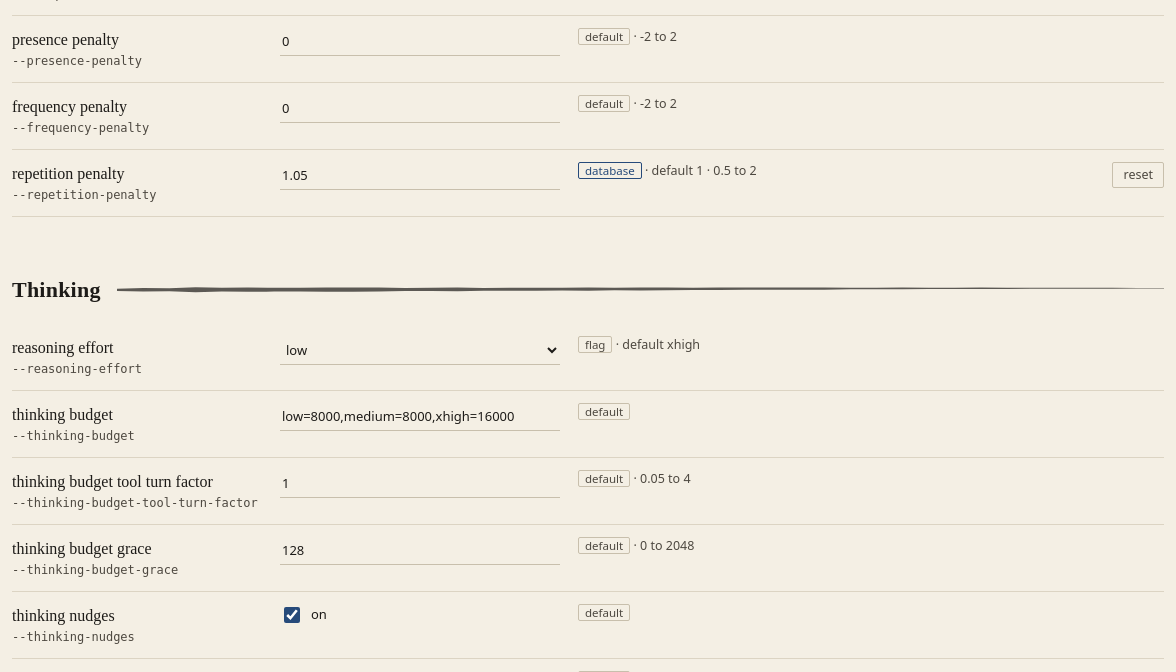
SettingsView › a refused select snaps back to the stored value
The image size is (1176, 672).
(page scrolled)
Select "medium" in the dropdown named "reasoning effort": (420, 350) [280,336,560,364]
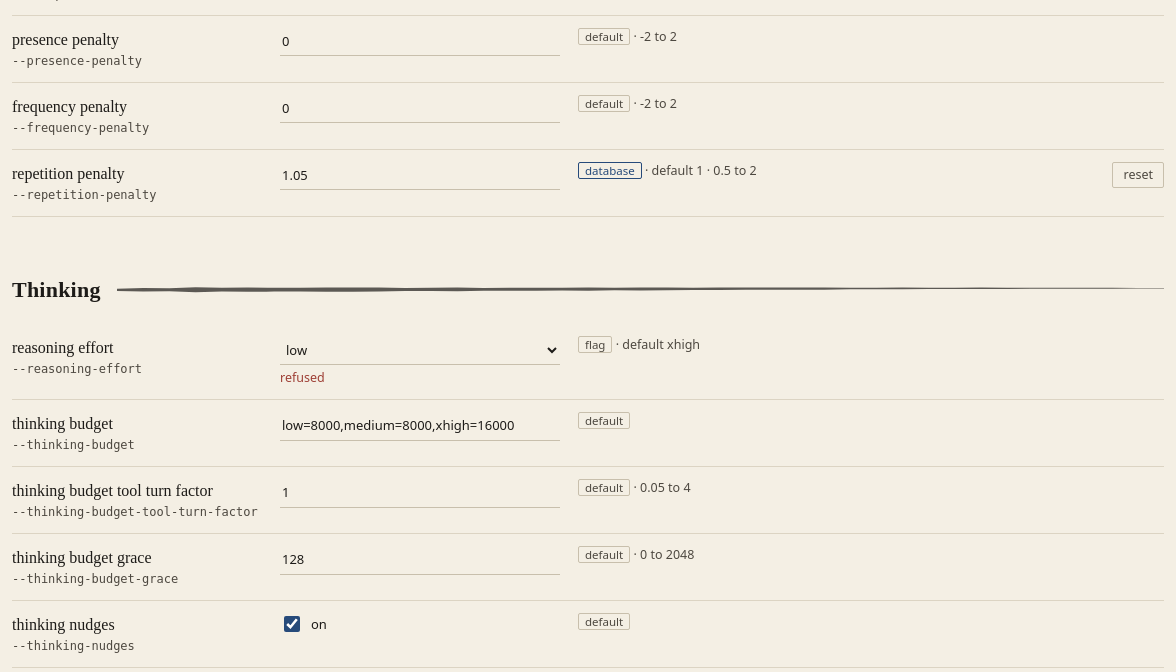
Expected: the message "refused" is shown, [280,368,325,386]
